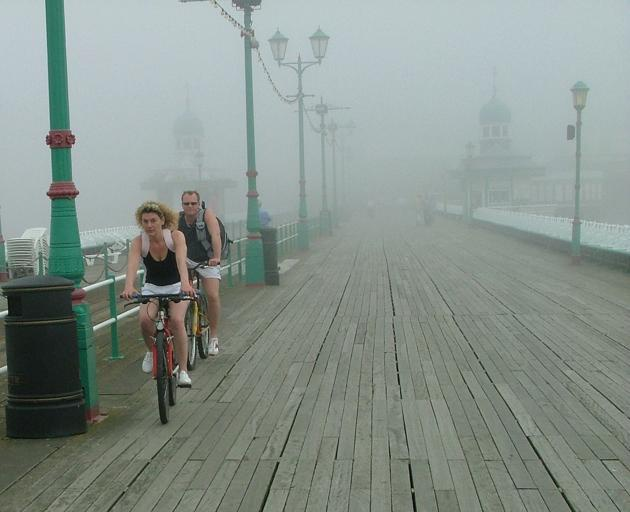non-vehicle: (117, 292, 203, 425), (183, 260, 209, 371)
